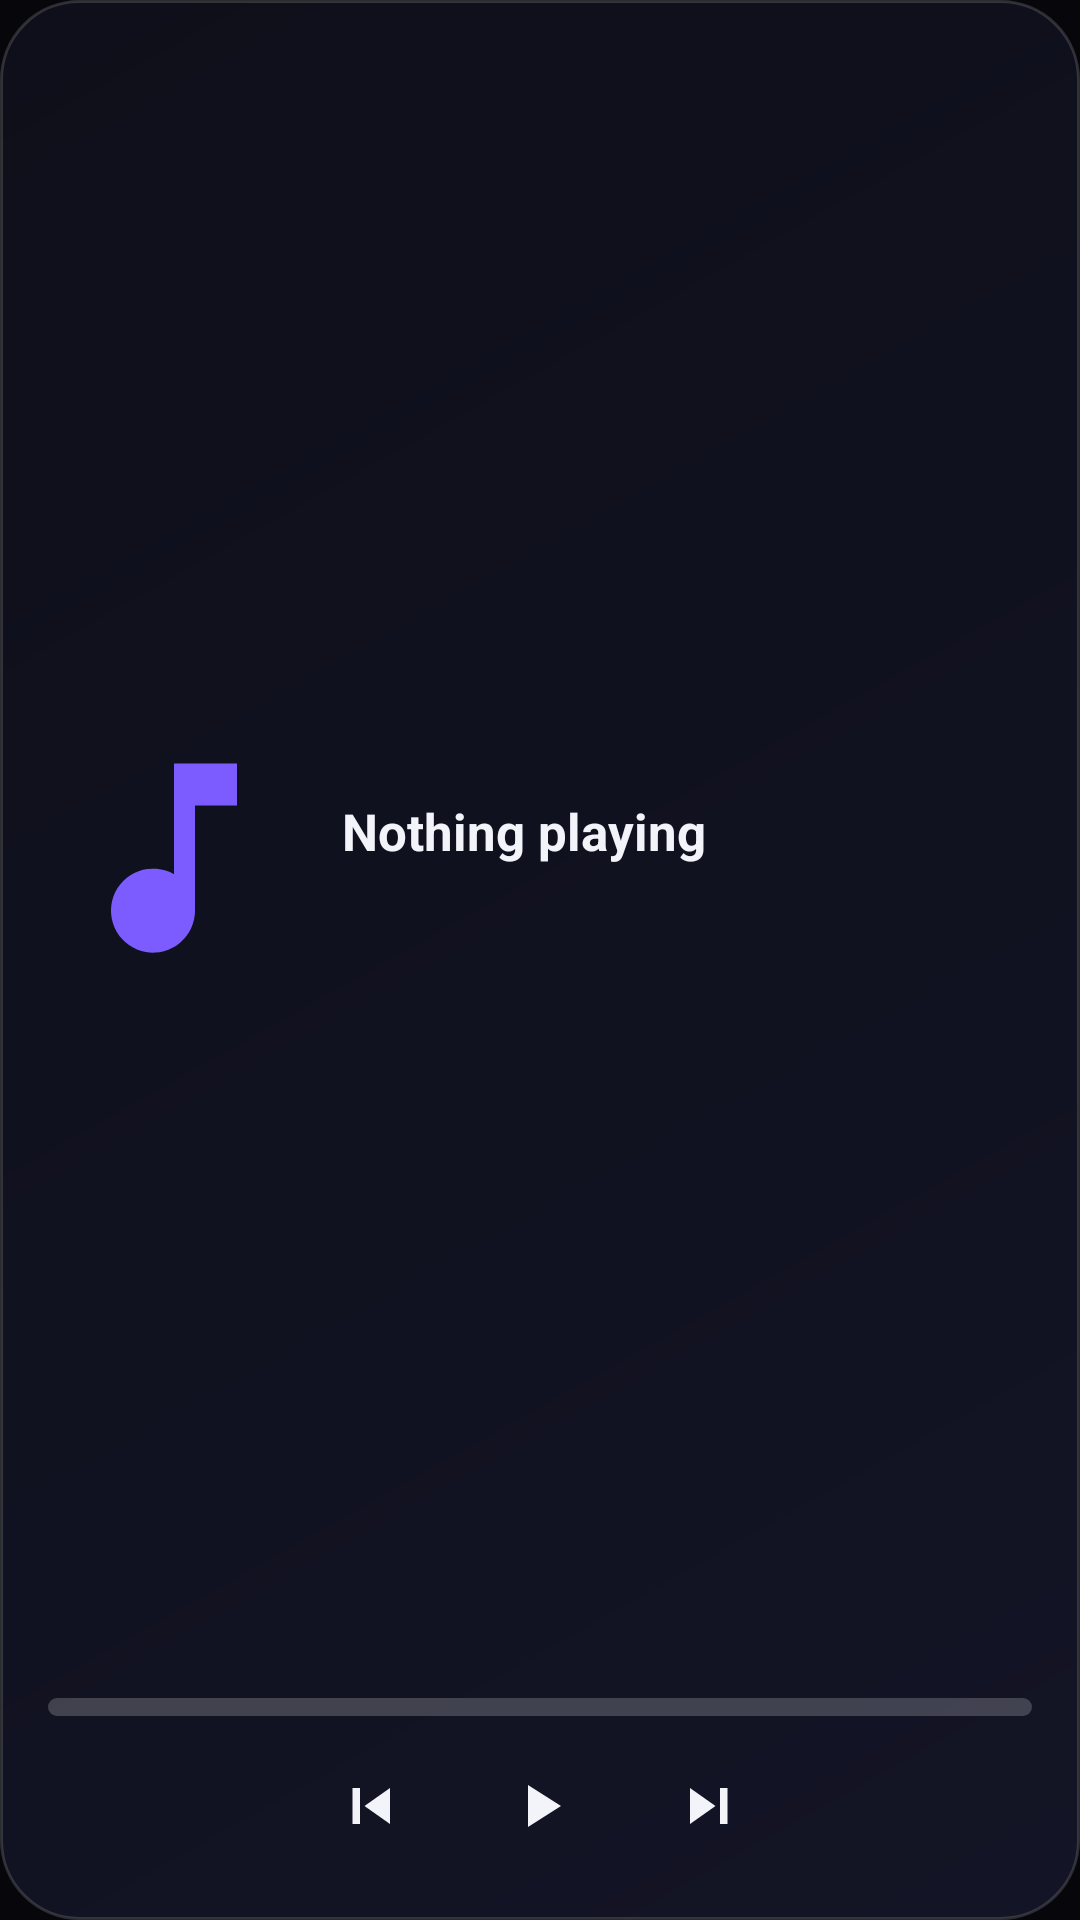

Icons on this 1080px x 1920px Android screen, each with its box as (x1, y1, x2, y2):
Album artwork: (111, 763, 237, 953)
Next track: (690, 1788, 728, 1824)
Play or pause: (528, 1785, 561, 1827)
Previous track: (352, 1788, 390, 1824)
